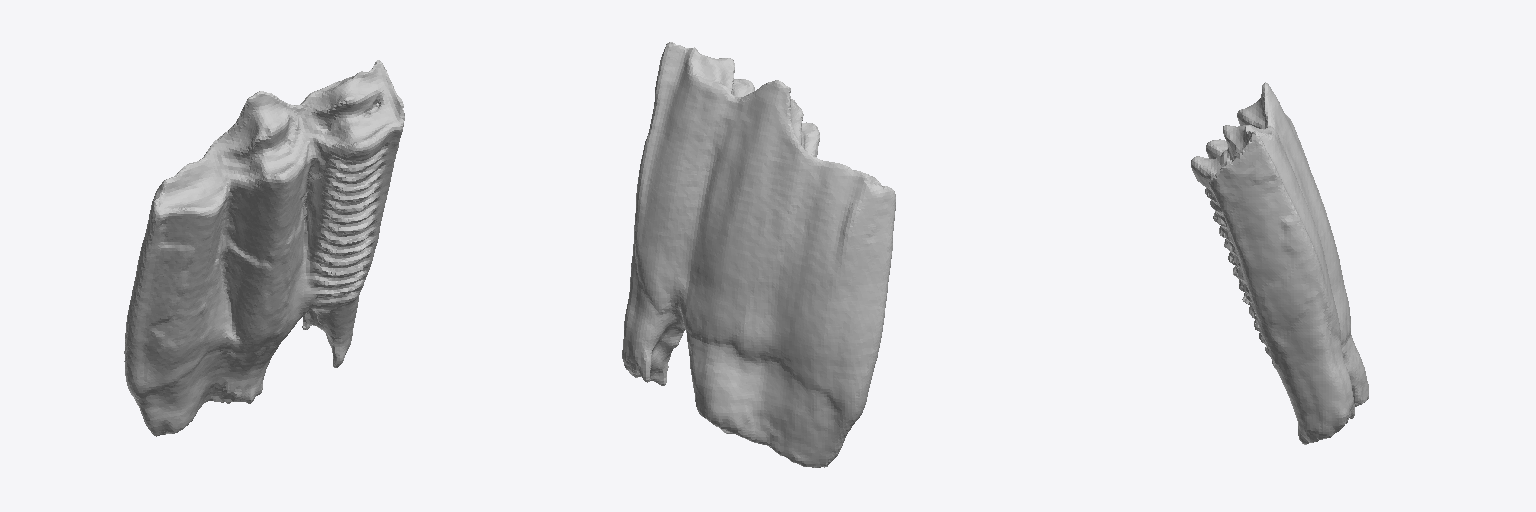
File: MB Ovis 1 M3.obj
3 views of the same model, side by side, from view 1: azimuth 30°, elevation 25°; view 2: azimuth 150°, elevation 25°; view 3: azimuth 270°, elevation 25° (orthographic).
Size of the model in its own units: 26.22 by 36.94 by 16.78.